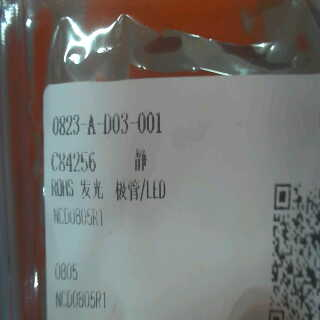LED: (78, 178, 175, 203)
